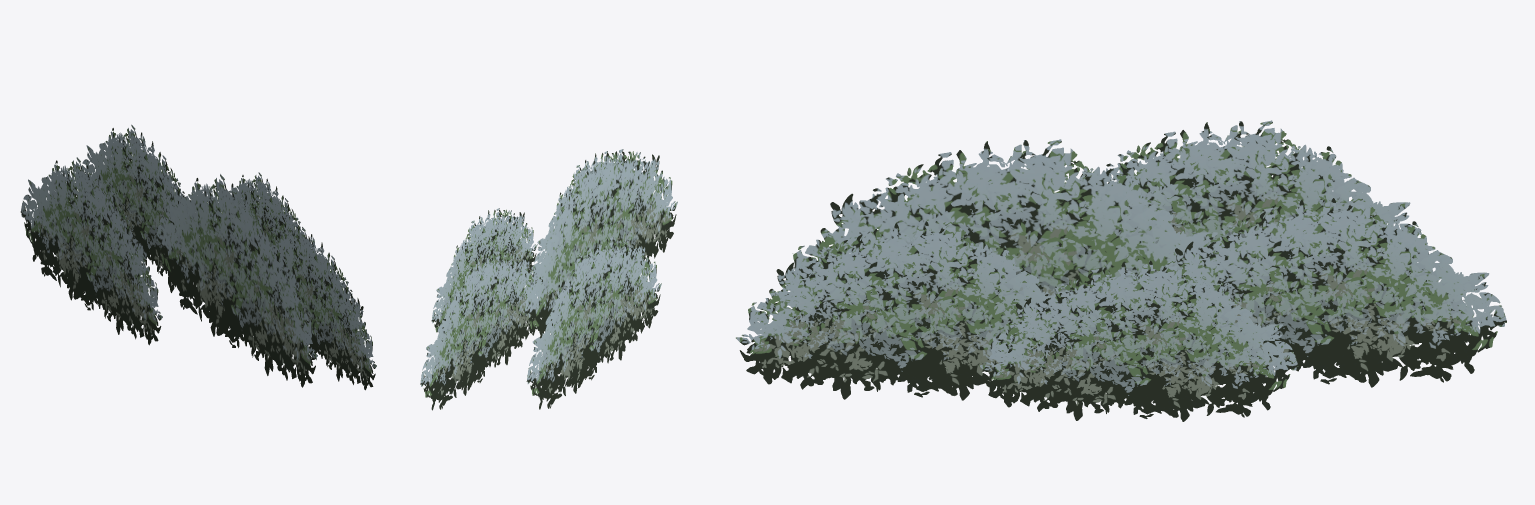
The model's file is bushes.fbx.
The picture shows the model from 3 angles, left to right: view 1: azimuth 30°, elevation 25°; view 2: azimuth 150°, elevation 25°; view 3: azimuth 270°, elevation 25°; orthographic projection. The views are drawn at different scales.
Parts seen in each view (by area): view 1: pPlane15, pPlane16, pPlane14, pPlane13, pPlane12; view 2: pPlane16, pPlane15, pPlane13, pPlane12, pPlane14; view 3: pPlane13, pPlane14, pPlane12, pPlane15, pPlane16.
Boxes of the visible parts, <box> form: pPlane15: <box>156,174,317,387</box>; pPlane16: <box>20,157,162,345</box>; pPlane14: <box>272,227,376,390</box>; pPlane13: <box>81,124,197,287</box>; pPlane12: <box>218,172,312,265</box>; pPlane16: <box>526,237,661,409</box>; pPlane15: <box>524,149,677,338</box>; pPlane13: <box>420,251,541,410</box>; pPlane12: <box>431,208,537,341</box>; pPlane14: <box>532,151,644,284</box>; pPlane13: <box>1170,197,1506,387</box>; pPlane14: <box>736,221,1073,400</box>; pPlane12: <box>979,260,1298,421</box>; pPlane15: <box>777,139,1217,307</box>; pPlane16: <box>1060,120,1428,265</box>.
Bounding box in the file's own units: 226 × 457 × 728.
Materials: 1 (1 with a texture image).
